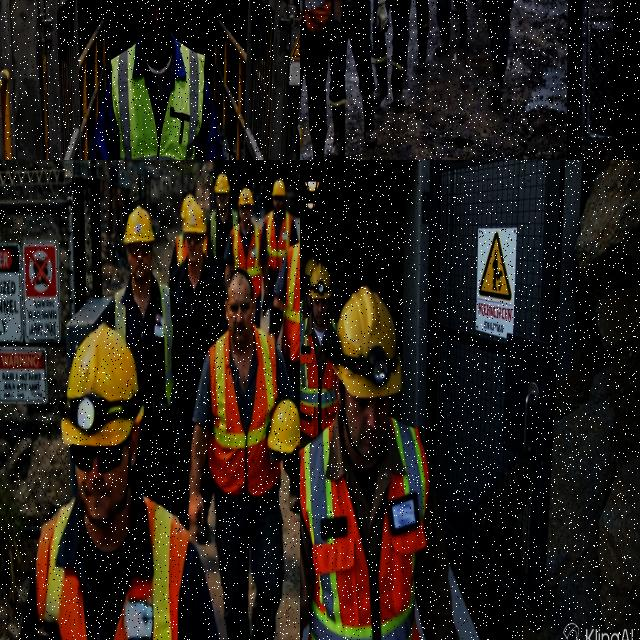Vest: (300, 419, 429, 639), (208, 326, 280, 497), (111, 45, 204, 159), (114, 499, 188, 639), (300, 318, 339, 437), (231, 226, 261, 298), (282, 244, 299, 363), (158, 284, 174, 404), (265, 211, 292, 274), (300, 0, 331, 33), (300, 299, 303, 320)
Worker: (20, 324, 218, 639), (300, 286, 458, 639), (190, 270, 299, 639), (107, 206, 196, 525), (89, 0, 223, 159), (170, 204, 227, 383), (327, 0, 376, 159), (300, 264, 338, 448), (300, 0, 342, 159), (224, 188, 268, 326), (270, 243, 299, 412), (262, 179, 298, 299), (483, 0, 513, 104), (209, 173, 238, 277), (386, 0, 411, 112), (415, 0, 429, 73), (435, 0, 450, 55), (169, 233, 186, 276), (300, 251, 305, 320), (471, 0, 479, 2)
helmet: (61, 324, 143, 447), (326, 286, 401, 398), (267, 400, 299, 455), (124, 206, 154, 244), (309, 264, 332, 299), (183, 202, 206, 235), (303, 257, 317, 290), (181, 194, 195, 219), (214, 173, 230, 194), (238, 188, 254, 207), (272, 179, 285, 197), (300, 252, 303, 268), (300, 124, 301, 148)
